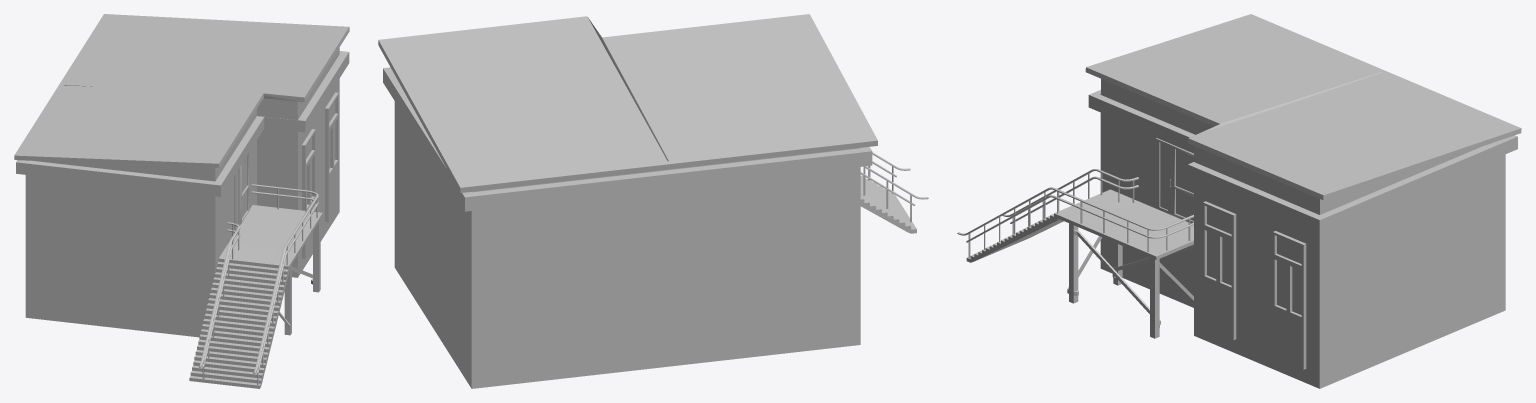
Rendered from Hoz_1.FBX.
The picture shows the model from 3 angles, left to right: view 1: azimuth 30°, elevation 25°; view 2: azimuth 150°, elevation 25°; view 3: azimuth 270°, elevation 25°; orthographic projection. The views are drawn at different scales.
Visible parts, largest first — view 1: Hoz_1; view 2: Hoz_1; view 3: Hoz_1.
Boxes of the visible parts, left/top/right/bottom form: Hoz_1: left=14, top=14, right=349, bottom=388; Hoz_1: left=378, top=14, right=928, bottom=388; Hoz_1: left=957, top=14, right=1521, bottom=388.
Size of the model in its own units: 1379 by 653 by 1659.
